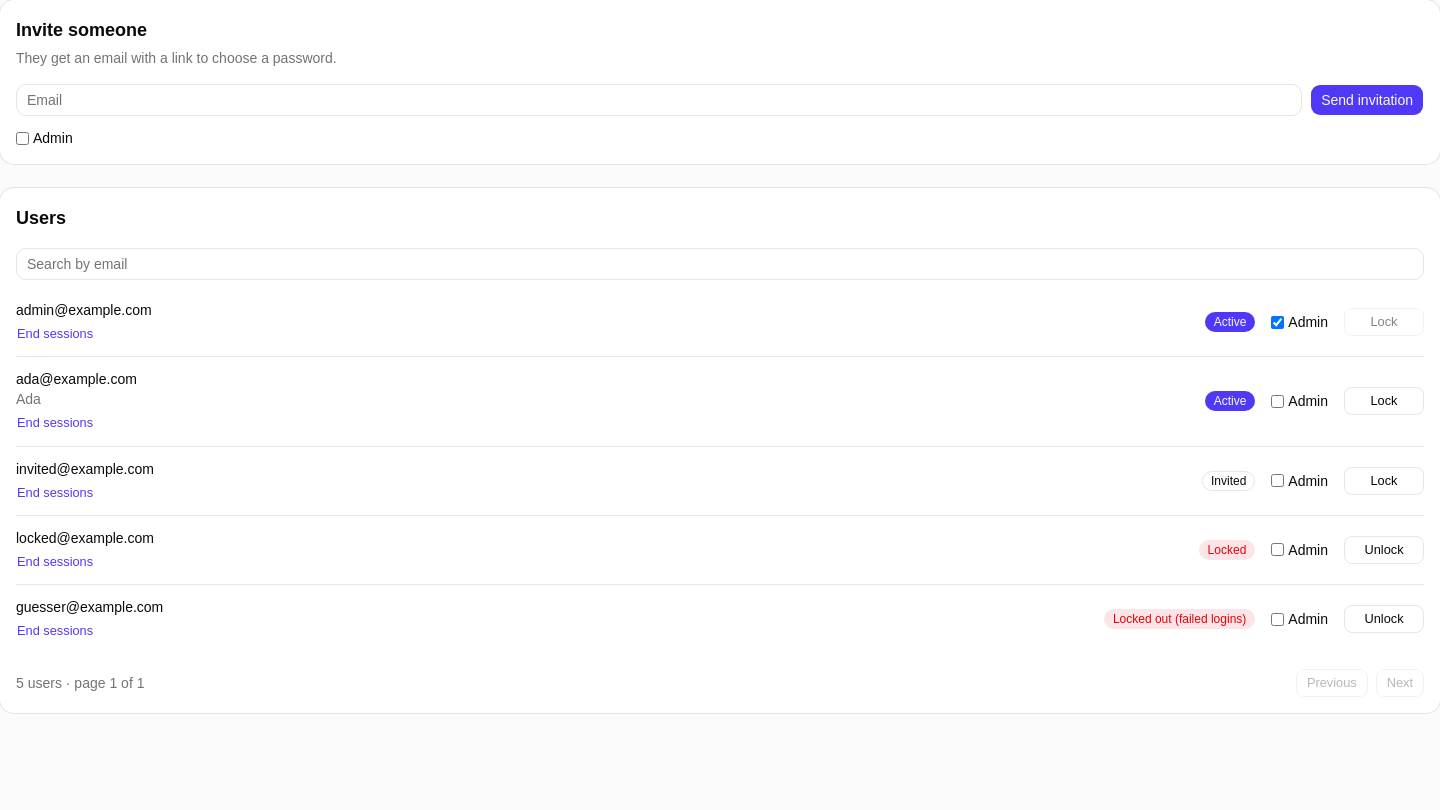
Test case: AdminPage › changes roles, and shows why a change was refused
Step 1. Click the 3rd checkbox labelled "Admin" → (1278, 401), box top-left (1271, 395), bottom-right (1284, 408)
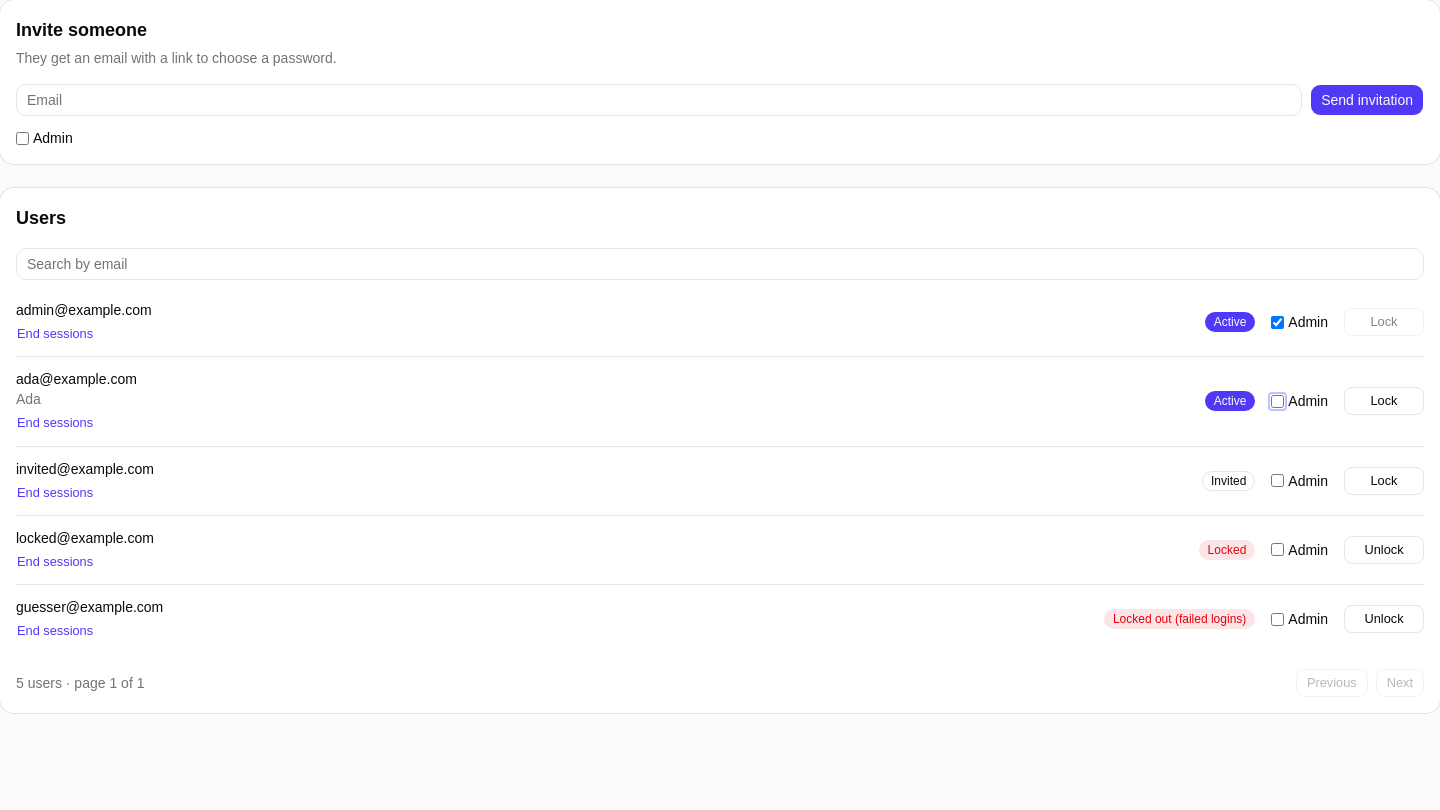
Step 2. Click the checkbox labelled "Admin" in the row of "admin@example.com" → (1278, 322), box top-left (1271, 316), bottom-right (1284, 329)
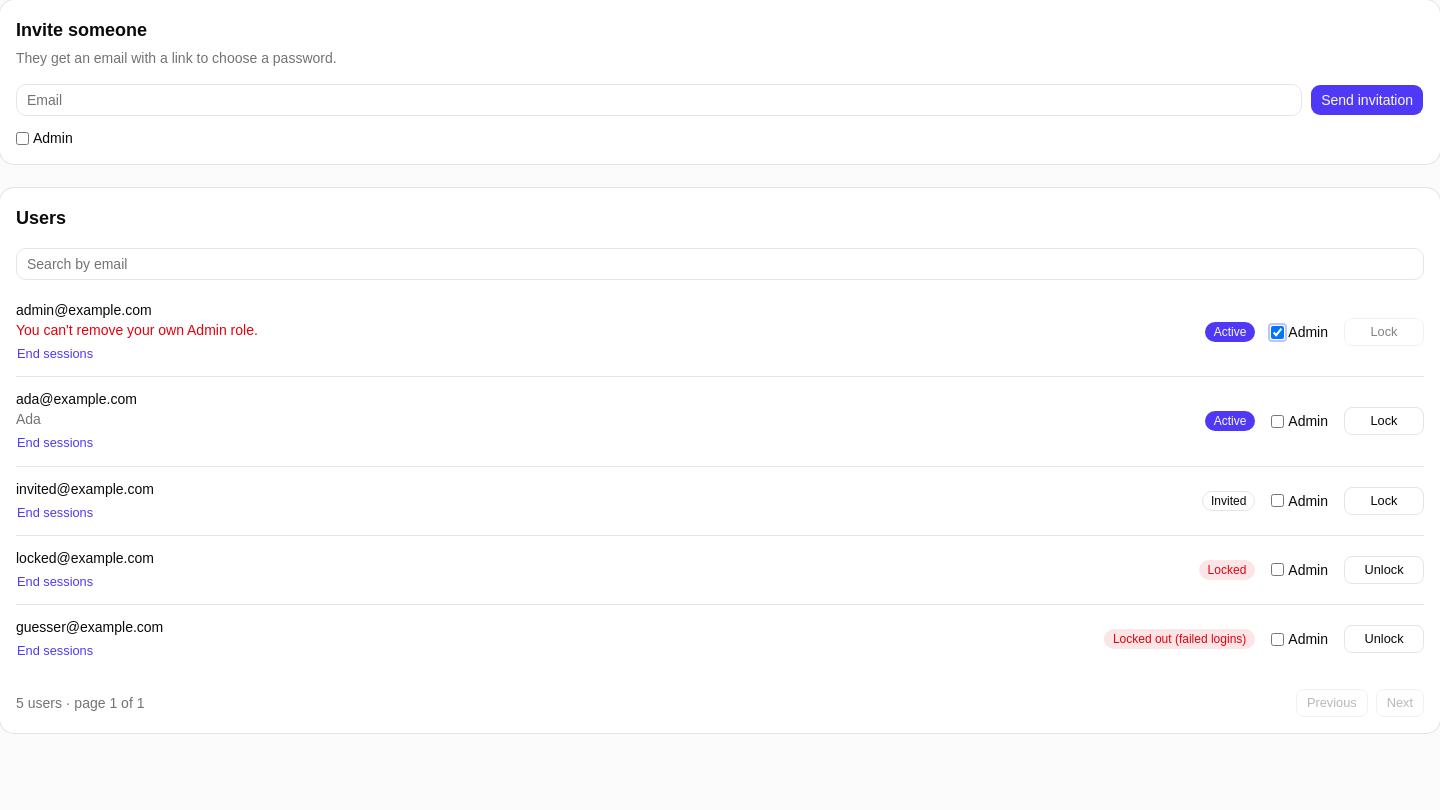
expect the text "You can't remove your own Admin role." is shown: met, box top-left (16, 322), bottom-right (258, 338)
